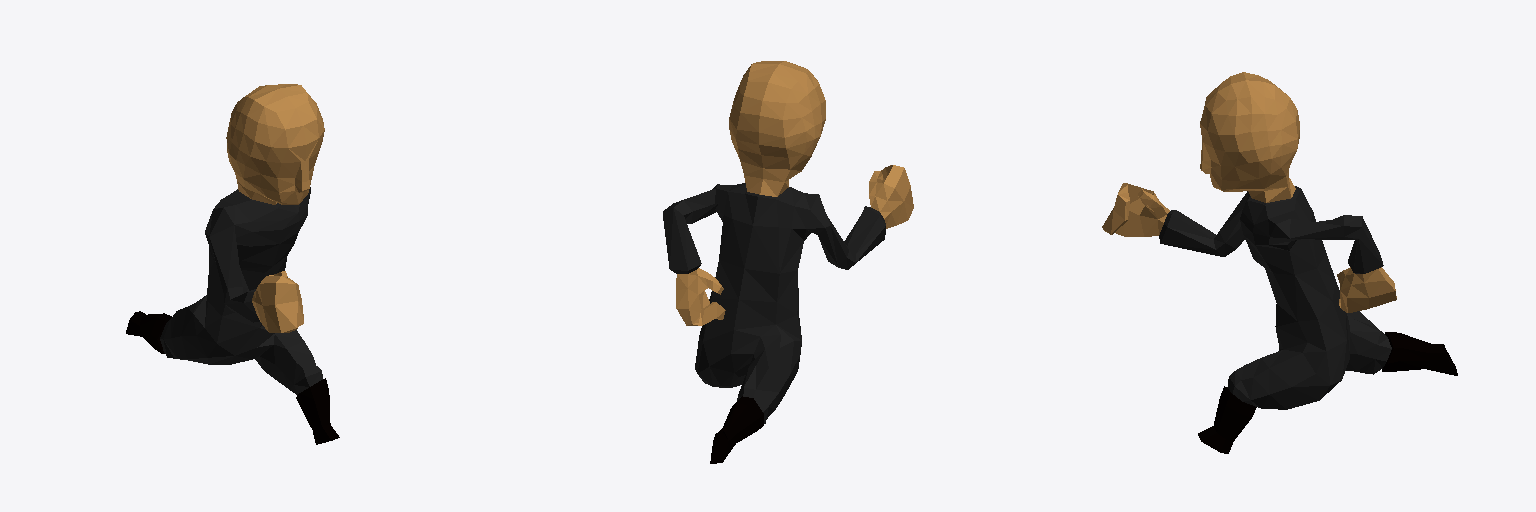
Rendered from KnightCharacter10.obj.
3 renders of one model, left to right at view 1: azimuth 30°, elevation 25°; view 2: azimuth 150°, elevation 25°; view 3: azimuth 270°, elevation 25°, orthographic.
Parts seen in each view (by area): view 1: Knight; view 2: Knight; view 3: Knight.
Boxes of the visible parts, box(x1,y1,x2,y2) form: Knight: box(126, 84, 339, 444); Knight: box(663, 61, 913, 463); Knight: box(1102, 72, 1457, 453).
Bounding box in the file's own units: 1.89 × 4.93 × 4.46.